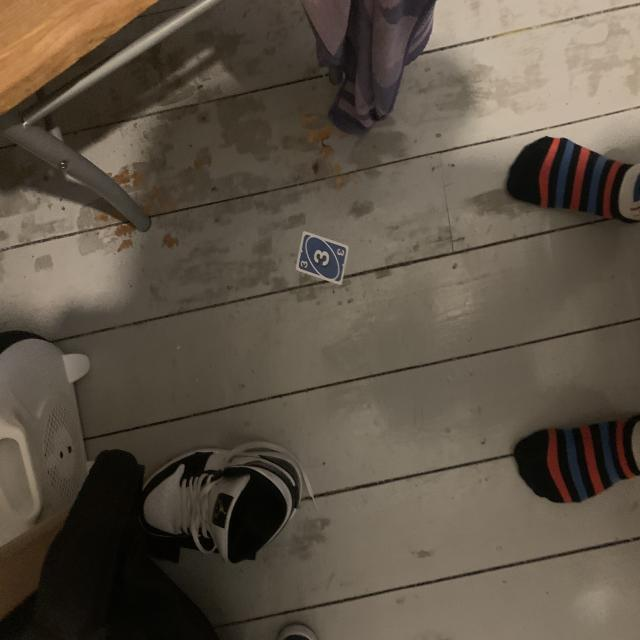lblue-3: (335, 245, 346, 259)
